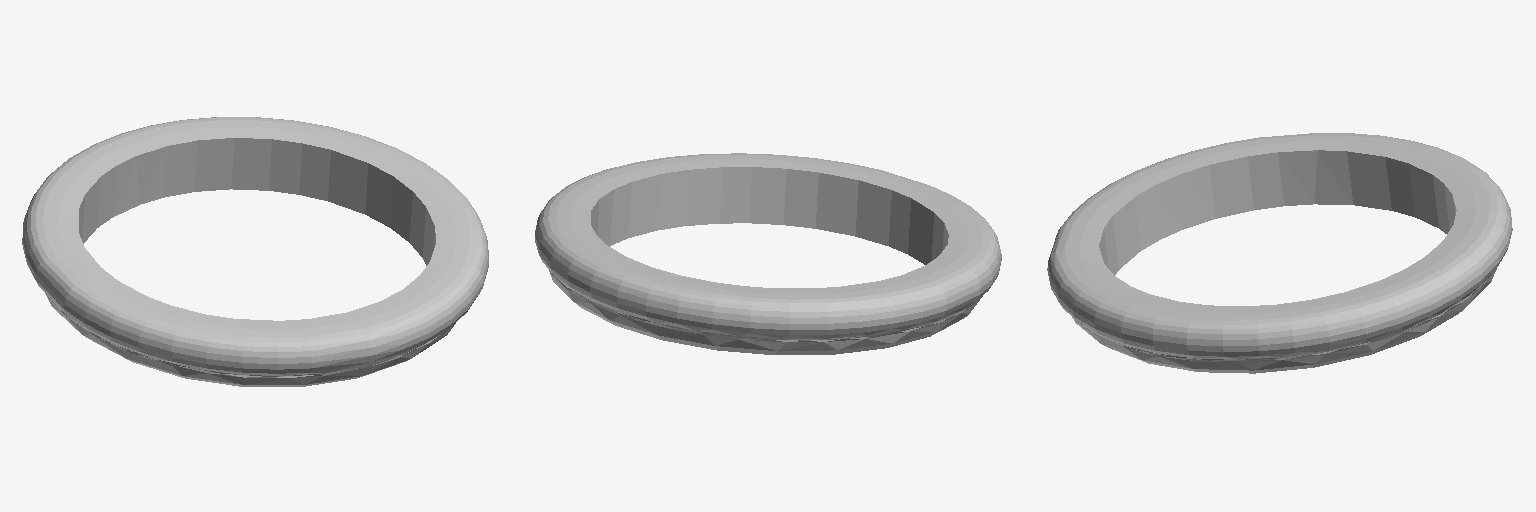
File: Joystick-Left-Ring.obj
3 views of the same model, side by side, from view 1: azimuth 30°, elevation 25°; view 2: azimuth 150°, elevation 25°; view 3: azimuth 270°, elevation 25° (orthographic).
Visible parts, largest first — view 1: Joystick-Left-Ring; view 2: Joystick-Left-Ring; view 3: Joystick-Left-Ring.
Part boxes in pixels (x1,y1,x2,y2): Joystick-Left-Ring: (22, 117, 488, 386); Joystick-Left-Ring: (535, 153, 1001, 354); Joystick-Left-Ring: (1047, 133, 1512, 373).
Bounding box in the file's own units: 13.89 × 3.24 × 13.85.